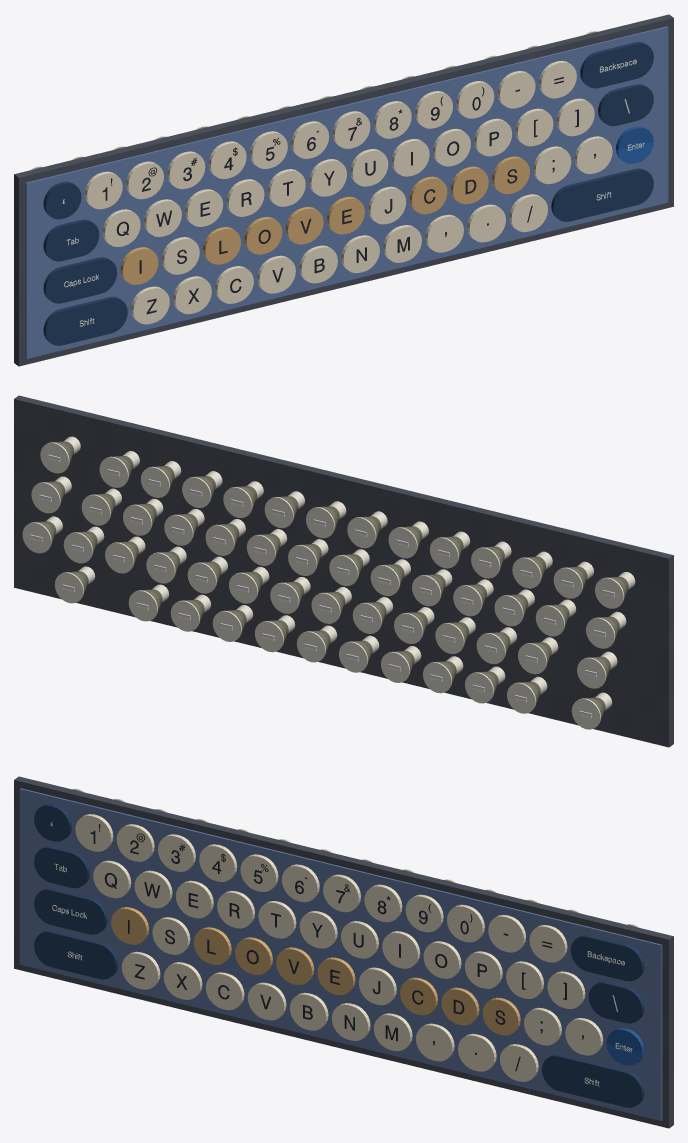
The model's file is CDS1-Keyboard-Wall.glb.
3 views of the same model, one above another, from view 1: azimuth 30°, elevation 25°; view 2: azimuth 150°, elevation 25°; view 3: azimuth 330°, elevation 25° (orthographic).
Visible parts, largest first — view 1: Blue_keyboard_backing, Recessed_outer_frame, Key_Shift (×2), Key_Caps Lock, Key_Backspace, Key_V (×2), Key_I (×2), Key_C (×2), Key_S (×2), Key_E (×2), Key_O (×2), Key_Tab (+37 smaller); view 2: Recessed_outer_frame, Keycap_r0c6__Keycap pedestal ivory, Keycap_r2c2__Keycap pedestal ivory, Keycap_r0c5__Keycap pedestal ivory, Keycap_r2c10__Keycap pedestal ivory, Keycap_r0c2__Keycap pedestal ivory, Keycap_r0c3__Keycap pedestal ivory, Keycap_r0c13__Keycap pedestal ivory, Keycap_r1c3__Keycap pedestal ivory, Keycap_r1c5__Keycap pedestal ivory, Keycap_r1c13__Keycap pedestal ivory, Keycap_r2c9__Keycap pedestal ivory (+43 smaller); view 3: Blue_keyboard_backing, Recessed_outer_frame, Key_Shift (×2), Key_Caps Lock, Key_Backspace, Key_V (×2), Key_I (×2), Key_C (×2), Key_S (×2), Key_E (×2), Key_O (×2), Key_\ (+37 smaller).
Boxes of the visible parts, x1,y1,x2,y2 form: Blue_keyboard_backing: (25, 26, 668, 358); Recessed_outer_frame: (14, 14, 673, 366); Key_Shift (×2): (43, 168, 653, 345); Key_Caps Lock: (43, 257, 117, 303); Key_Backspace: (580, 42, 653, 88); Key_V (×2): (257, 207, 323, 293); Key_I (×2): (120, 139, 429, 284); Key_C (×2): (215, 176, 447, 303); Key_S (×2): (161, 156, 529, 274); Key_E (×2): (185, 189, 364, 234); Key_O (×2): (244, 128, 470, 254); Key_Tab: (43, 219, 99, 261); Recessed_outer_frame: (14, 395, 673, 747); Keycap_r0c6__Keycap pedestal ivory: (347, 511, 387, 548); Keycap_r2c2__Keycap pedestal ivory: (476, 627, 516, 664); Keycap_r0c5__Keycap pedestal ivory: (388, 521, 428, 558); Keycap_r2c10__Keycap pedestal ivory: (146, 546, 186, 583); Keycap_r0c2__Keycap pedestal ivory: (512, 551, 552, 588); Keycap_r0c3__Keycap pedestal ivory: (471, 541, 511, 578); Keycap_r0c13__Keycap pedestal ivory: (40, 436, 80, 473); Keycap_r1c3__Keycap pedestal ivory: (453, 579, 493, 616); Keycap_r1c5__Keycap pedestal ivory: (370, 559, 410, 596); Keycap_r1c13__Keycap pedestal ivory: (31, 476, 71, 513); Keycap_r2c9__Keycap pedestal ivory: (187, 556, 227, 593); Blue_keyboard_backing: (19, 788, 662, 1120); Recessed_outer_frame: (14, 776, 673, 1128); Key_Shift (×2): (34, 930, 644, 1107); Key_Caps Lock: (34, 888, 107, 934); Key_Backspace: (570, 935, 644, 981); Key_V (×2): (247, 947, 314, 1020); Key_I (×2): (111, 907, 420, 968); Key_C (×2): (205, 972, 437, 1015); Key_S (×2): (152, 917, 520, 1035); Key_E (×2): (175, 880, 355, 995); Key_O (×2): (235, 937, 461, 978); Key_\: (588, 981, 644, 1023).
Bounding box in the file's own units: 7.81 × 2.15 × 0.575.
Materials: 65 (8 with a texture image).
